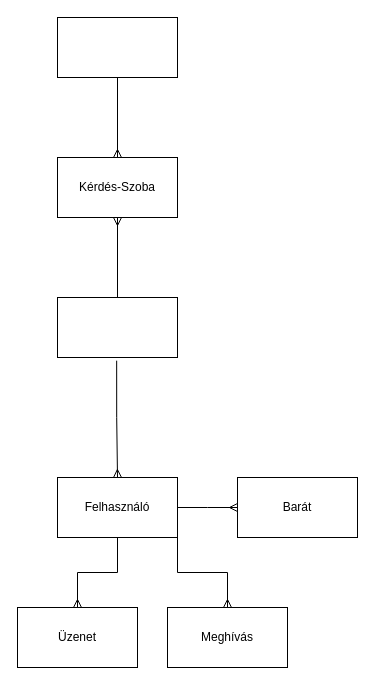
Some shapes in this 375 by 685 pixel diagram are drawn without their labels. Here are the shapes that lost their labels. From the top down, the centre of each, then its label:
pixel 117 47: Kérdés
pixel 117 327: Szoba
